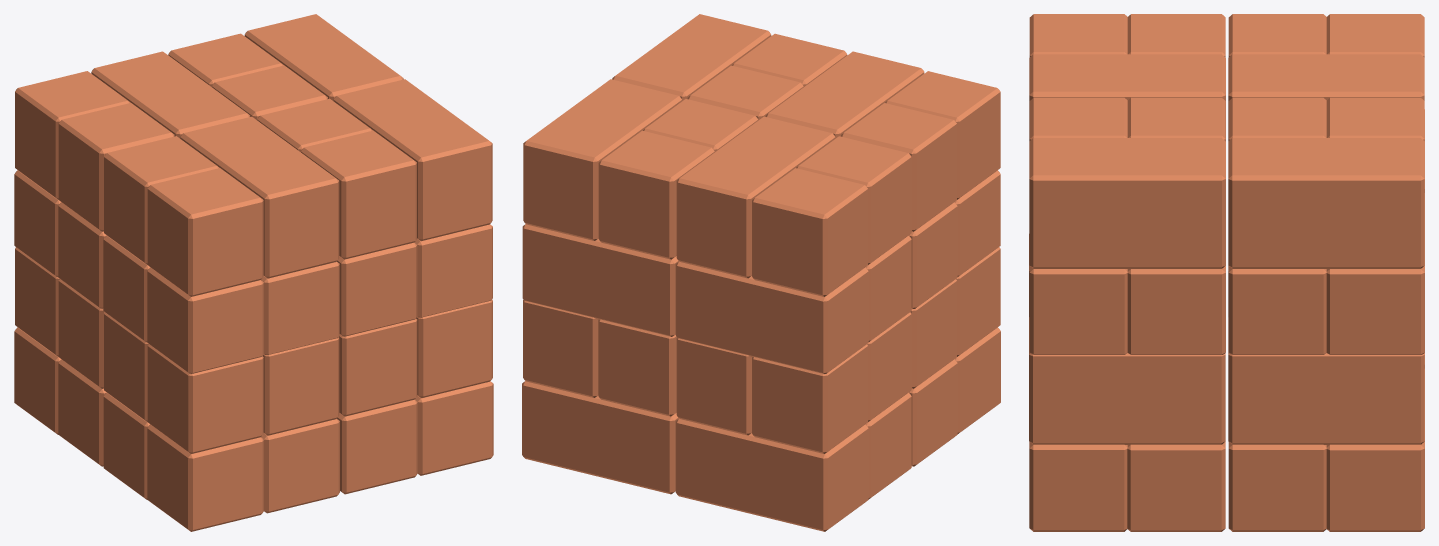
File: Brock2.fbx
3 views of the same model, side by side, from view 1: azimuth 30°, elevation 25°; view 2: azimuth 150°, elevation 25°; view 3: azimuth 270°, elevation 25° (orthographic). The views are drawn at different scales.
Visible parts, largest first — view 1: 立方体.006, 立方体.003, 立方体.007, 立方体.010, 立方体.005, 立方体.009, 立方体.011; view 2: 立方体.010, 立方体.009, 立方体.011, 立方体.006, 立方体.008, 立方体.003, 立方体.007; view 3: 立方体.011, 立方体.007, 立方体.008, 立方体.005, 立方体.010, 立方体.006.
Part boxes in pixels (bbox=[...]): 立方体.006: bbox=[103, 116, 339, 373]; 立方体.003: bbox=[103, 312, 339, 531]; 立方体.007: bbox=[257, 79, 492, 336]; 立方体.010: bbox=[14, 51, 250, 308]; 立方体.005: bbox=[337, 300, 493, 494]; 立方体.009: bbox=[14, 247, 106, 466]; 立方体.011: bbox=[168, 14, 403, 119]; 立方体.010: bbox=[675, 116, 911, 373]; 立方体.009: bbox=[675, 312, 911, 531]; 立方体.011: bbox=[522, 79, 758, 336]; 立方体.006: bbox=[765, 51, 1000, 308]; 立方体.008: bbox=[522, 300, 678, 494]; 立方体.003: bbox=[909, 247, 1000, 466]; 立方体.007: bbox=[612, 14, 847, 120]; 立方体.011: bbox=[1228, 97, 1424, 354]; 立方体.007: bbox=[1029, 97, 1225, 354]; 立方体.008: bbox=[1228, 317, 1424, 531]; 立方体.005: bbox=[1029, 317, 1225, 531]; 立方体.010: bbox=[1228, 14, 1424, 192]; 立方体.006: bbox=[1029, 14, 1225, 141].
Size of the model in its own units: 101 by 101 by 102.
